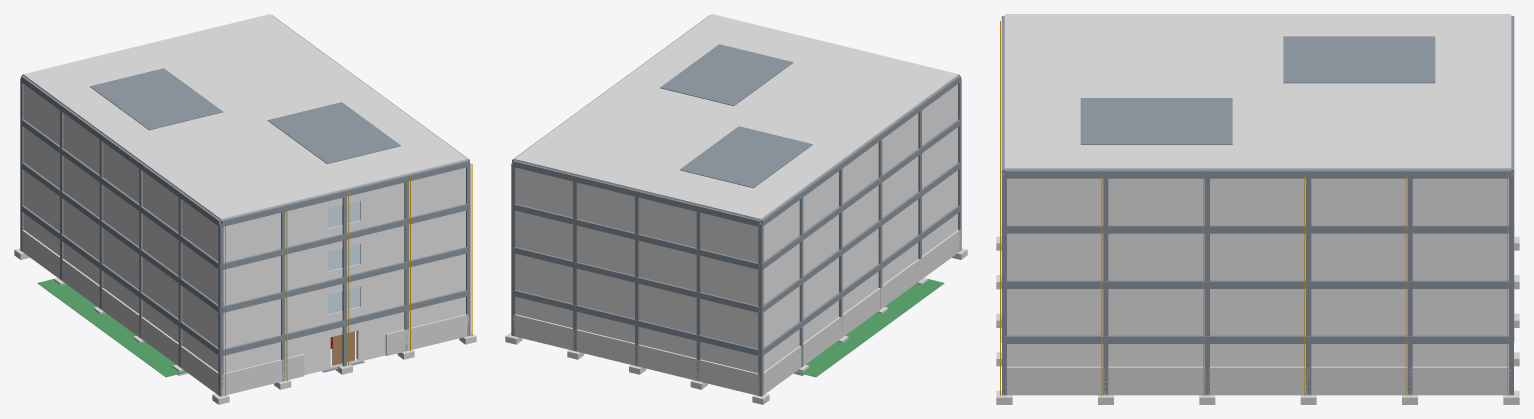
Rendered from generated_building_5.glb.
3 renders of one model, left to right at view 1: azimuth 30°, elevation 25°; view 2: azimuth 150°, elevation 25°; view 3: azimuth 270°, elevation 25°, orthographic. The views are drawn at different scales.
Visible parts, largest first — view 1: architectural, structural, landscape, windows, electrical, doors; view 2: architectural, structural, landscape; view 3: architectural, structural, landscape, electrical.
Part boxes in pixels (left/top/right/bottom): architectural: left=23, top=14, right=467, bottom=374; structural: left=14, top=15, right=476, bottom=404; landscape: left=21, top=230, right=468, bottom=396; windows: left=328, top=201, right=360, bottom=314; electrical: left=225, top=163, right=472, bottom=396; doors: left=332, top=331, right=354, bottom=365; architectural: left=514, top=14, right=958, bottom=373; structural: left=505, top=15, right=967, bottom=404; landscape: left=513, top=230, right=960, bottom=395; architectural: left=1004, top=14, right=1511, bottom=366; structural: left=996, top=16, right=1519, bottom=404; landscape: left=1005, top=366, right=1510, bottom=395; electrical: left=1000, top=21, right=1507, bottom=395.
Bounding box in the file's own units: 19.9 × 12.75 × 25.8.
